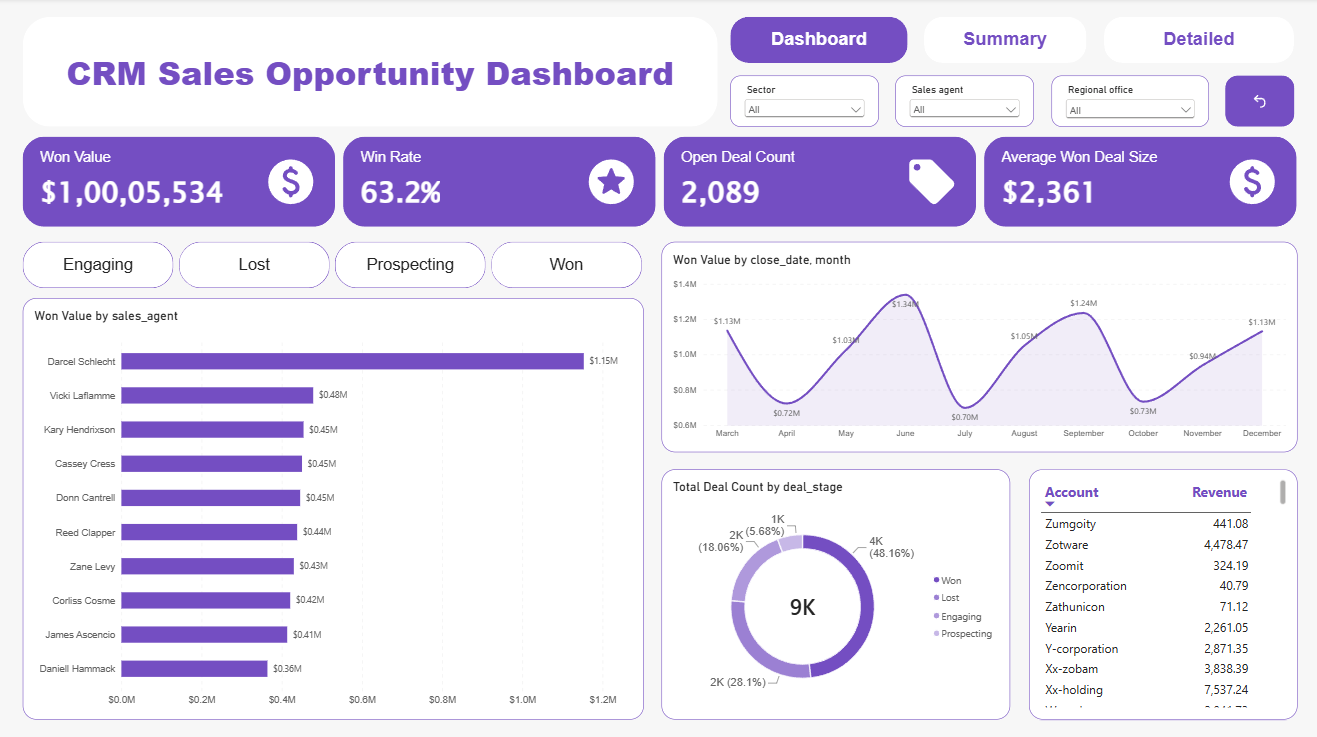

This screenshot's page, from the dashboard's own definition file:
{"tool":"powerbi","page":{"name":"Dashboard","canvas":[1920,1080],"ordinal":0},"visuals":[{"type":"cardVisual","fields":{"Data":["crm sales_pipeline.Won Value","crm sales_pipeline.Win Rate","crm sales_pipeline.Open Deal Count","crm sales_pipeline.Average Won Deal Size"]},"box":[34.4,200.9,1845.9,130.3],"z":0},{"type":"barChart","title":"Won Value by sales_agent","fields":{"Category":["crm sales_pipeline.sales_agent"],"Y":["crm sales_pipeline.Won Value"]},"box":[34.4,433.9,899.4,610.3],"z":1,"group":"g2"},{"type":"donutChart","fields":{"Category":["crm sales_pipeline.deal_stage"],"Y":["crm sales_pipeline.Total Deal Count"]},"box":[959.1,682.2,504.9,362],"z":2,"group":"g3"},{"type":"lineChart","title":"Won Value by close_date, month","fields":{"Category":["crm sales_pipeline.close_date_month"],"Y":["crm sales_pipeline.Won Value"]},"box":[959.1,352.9,921.1,305.1],"z":3,"group":"g3"},{"type":"tableEx","fields":{"Values":["crm accounts.account","crm accounts.revenue"]},"box":[1491.1,682.2,389.1,362],"z":4,"group":"g3"},{"type":"slicer","fields":{"Values":["crm sales_teams.regional_office"]},"box":[1523.2,112.5,228,74],"z":5,"group":"g1"},{"type":"slicer","fields":{"Values":["crm accounts.sector"]},"box":[1058.8,112.5,215.3,74],"z":6,"group":"g1"},{"type":"slicer","fields":{"Values":["crm sales_pipeline.sales_agent"]},"box":[1298.2,112.4,200.9,74.2],"z":7,"group":"g1"},{"type":"actionButton","box":[1775.3,112.5,100,74],"z":8,"group":"g1"},{"type":"advancedSlicerVisual","fields":{"Values":["crm sales_pipeline.deal_stage"]},"box":[34.4,352.9,899.4,67.2],"z":9,"group":"g2"},{"type":"group","id":"g1","title":"Group 1","box":[1058.8,112.4,816.5,74.2],"z":10},{"type":"shape","box":[34.4,27.1,1006.2,159.3],"z":12},{"type":"group","id":"g2","title":"Group 2","box":[34.4,352.9,899.4,691.3],"z":13,"group":"g4"},{"type":"group","id":"g3","title":"Group 3","box":[959.1,352.9,921.1,691.3],"z":14,"group":"g4"},{"type":"group","id":"g4","title":"Group 4","box":[34.4,352.9,1845.9,691.3],"z":15},{"type":"actionButton","box":[1058.7,27.1,257,67],"z":17,"group":"g5"},{"type":"actionButton","box":[1340.1,27.1,235.3,67],"z":18,"group":"g5"},{"type":"actionButton","box":[1599.8,27.1,275.1,67],"z":19,"group":"g5"},{"type":"group","id":"g5","title":"Group 5","box":[1058.7,27.1,816.2,67],"z":20}]}

Visuals, with their boxes in screenshot pixels (x1, y1, x2, y2), scaled from the page's 1920x1080 canvas onto the 1317x737 screenshot:
cardVisual - crm sales_pipeline.Won Value x crm sales_pipeline.Win Rate: bbox=[24, 137, 1290, 226]
"Won Value by sales_agent" barChart: bbox=[24, 296, 641, 713]
donutChart - crm sales_pipeline.deal_stage x crm sales_pipeline.Total Deal Count: bbox=[658, 466, 1004, 713]
"Won Value by close_date, month" lineChart: bbox=[658, 241, 1290, 449]
tableEx - crm accounts.account x crm accounts.revenue: bbox=[1023, 466, 1290, 713]
slicer - crm sales_teams.regional_office: bbox=[1045, 77, 1201, 127]
slicer - crm accounts.sector: bbox=[726, 77, 874, 127]
slicer - crm sales_pipeline.sales_agent: bbox=[890, 77, 1028, 127]
actionButton: bbox=[1218, 77, 1286, 127]
advancedSlicerVisual - crm sales_pipeline.deal_stage: bbox=[24, 241, 641, 287]
"Group 1" group: bbox=[726, 77, 1286, 127]
shape: bbox=[24, 18, 714, 127]
"Group 2" group: bbox=[24, 241, 641, 713]
"Group 3" group: bbox=[658, 241, 1290, 713]
"Group 4" group: bbox=[24, 241, 1290, 713]
actionButton: bbox=[726, 18, 902, 64]
actionButton: bbox=[919, 18, 1081, 64]
actionButton: bbox=[1097, 18, 1286, 64]
"Group 5" group: bbox=[726, 18, 1286, 64]
